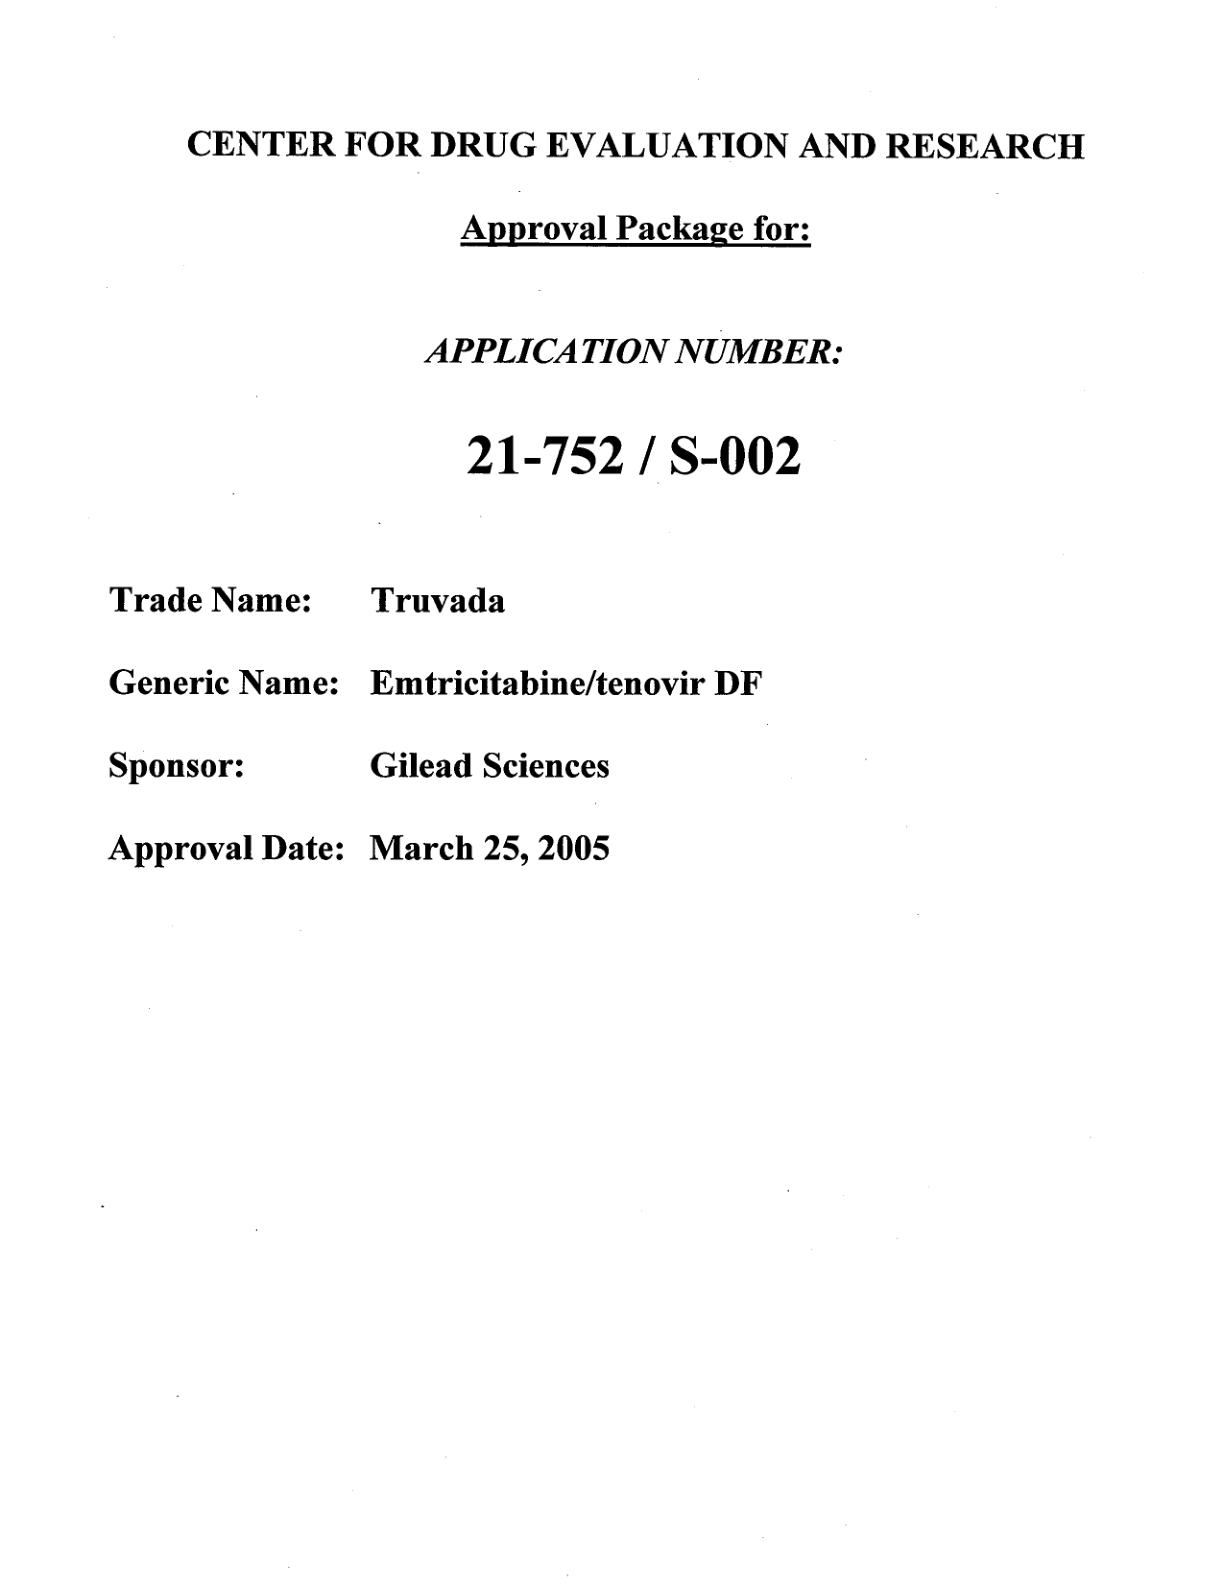nolines: (105, 582, 764, 867)
